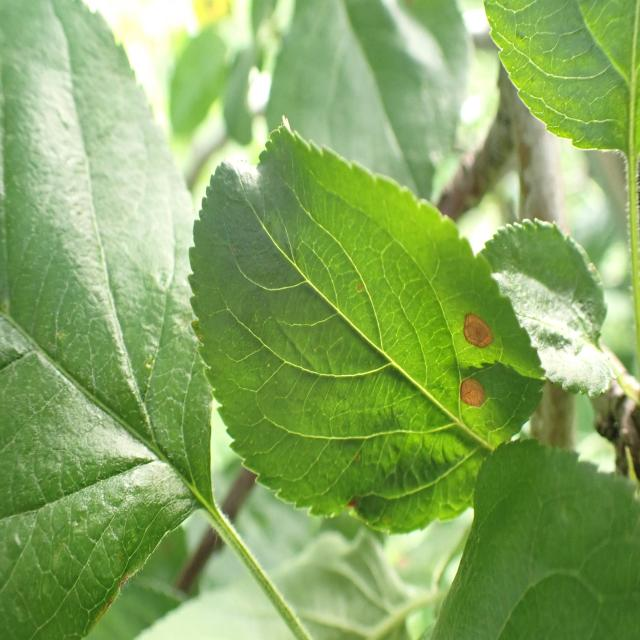Black Rot: (453, 361, 502, 443), (444, 304, 504, 362)
